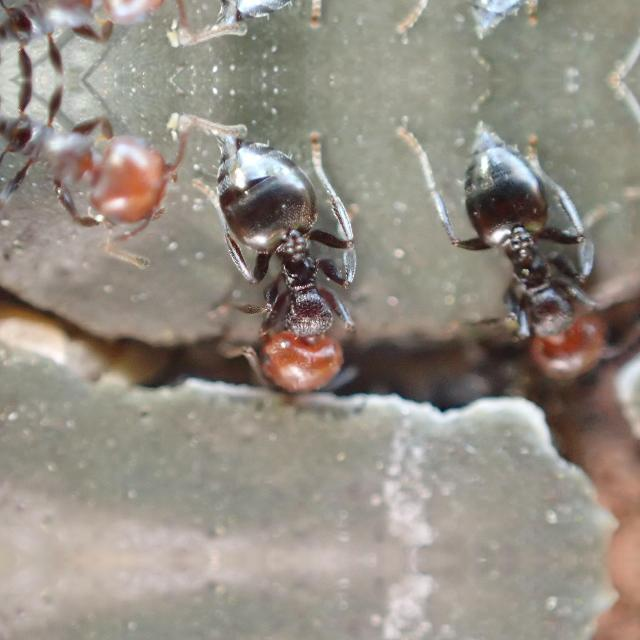Crematogaster: (426, 112, 622, 394), (219, 142, 355, 422), (0, 79, 162, 260), (0, 0, 162, 80)
